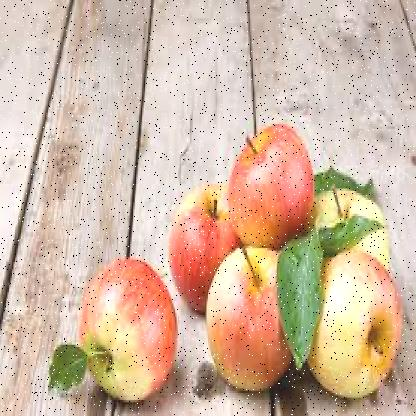apple: (76, 260, 178, 400), (311, 253, 410, 393), (202, 250, 300, 388), (168, 184, 256, 306), (227, 128, 313, 244)
